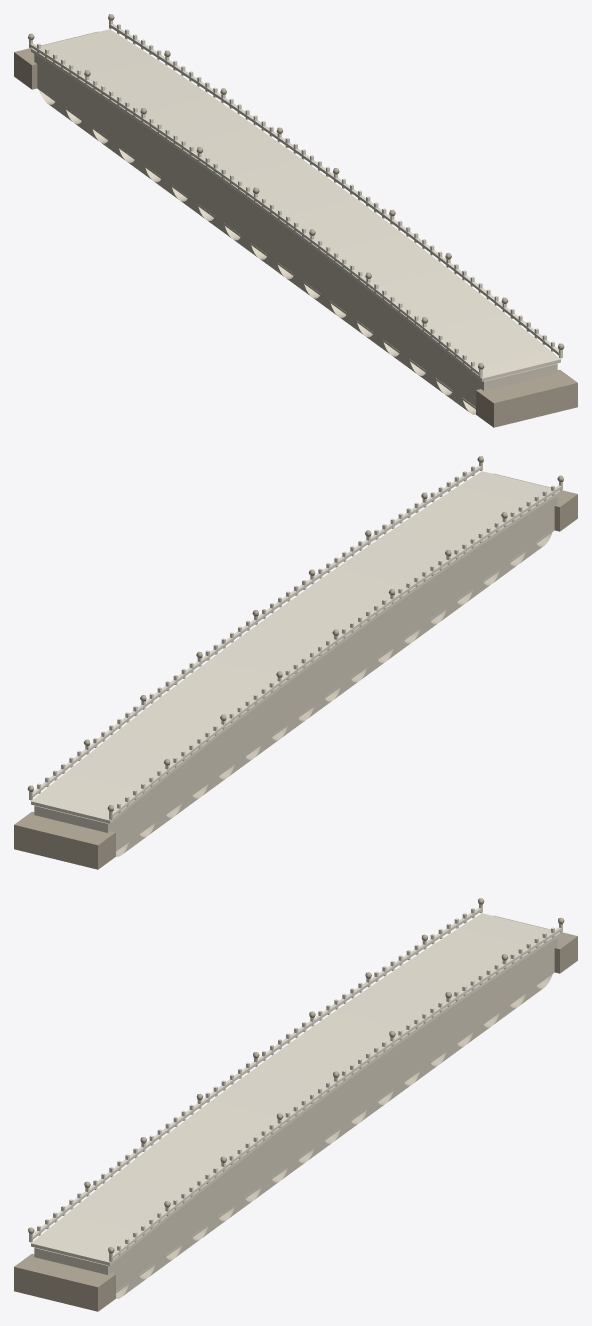
3 renders of one model, top to bottom at view 1: azimuth 30°, elevation 25°; view 2: azimuth 150°, elevation 25°; view 3: azimuth 330°, elevation 25°, orthographic.
Bounding box in the file's own units: 0.1649 × 0.132 × 1.6.
